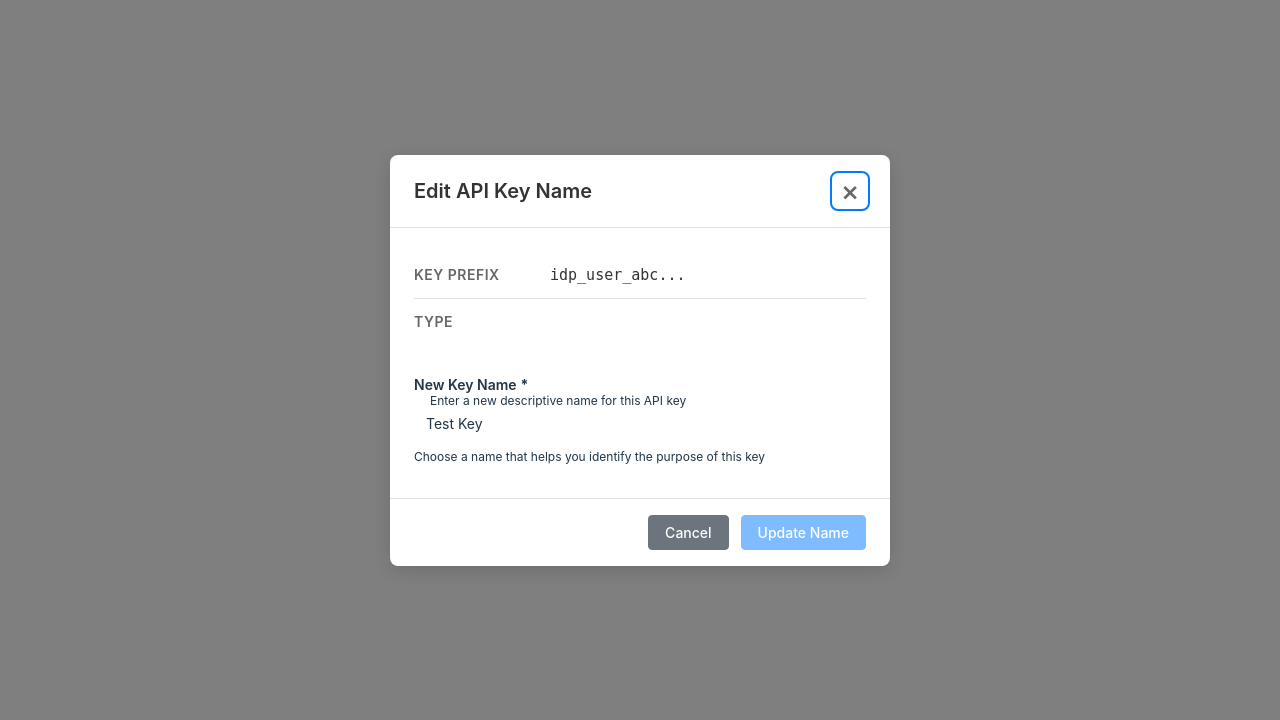
Test: ApiKeyEditNameModal › disables buttons while updating
The image size is (1280, 720).
Replace the text in the field with "New Key Name": x=640, y=421 [414, 400, 866, 442]
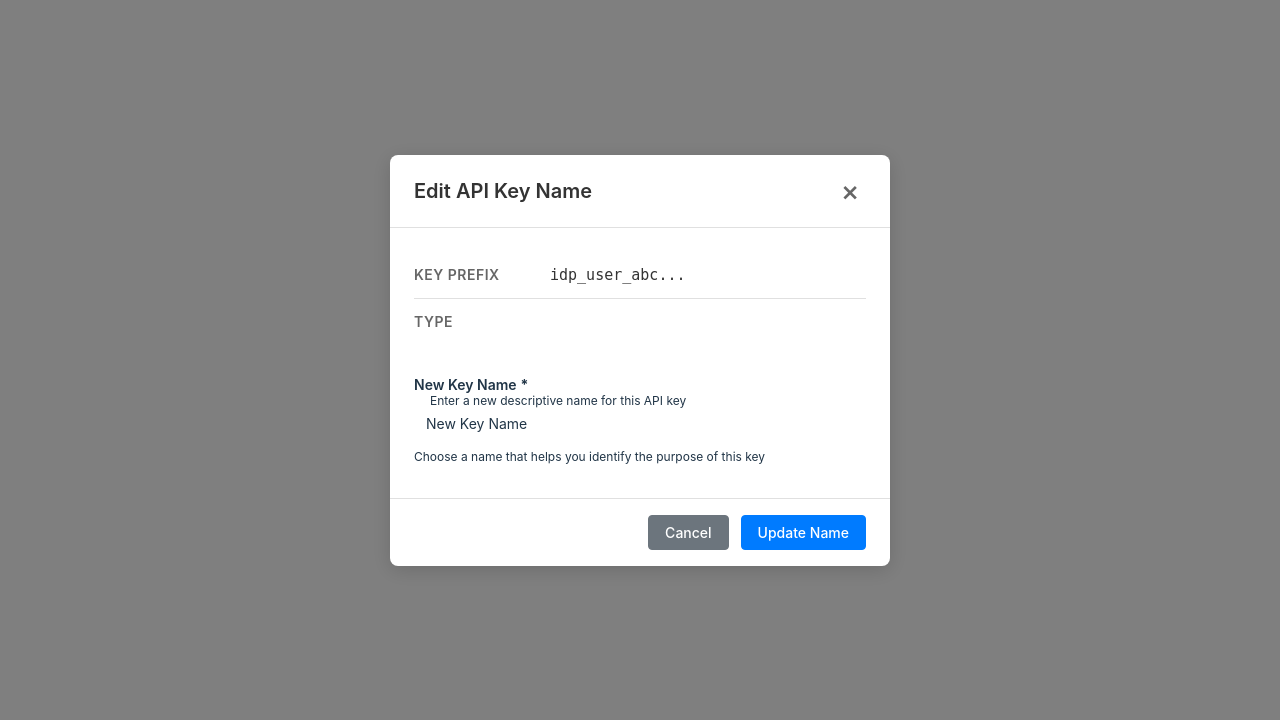
Click the button "Update Name": x=803, y=532 [741, 514, 866, 550]
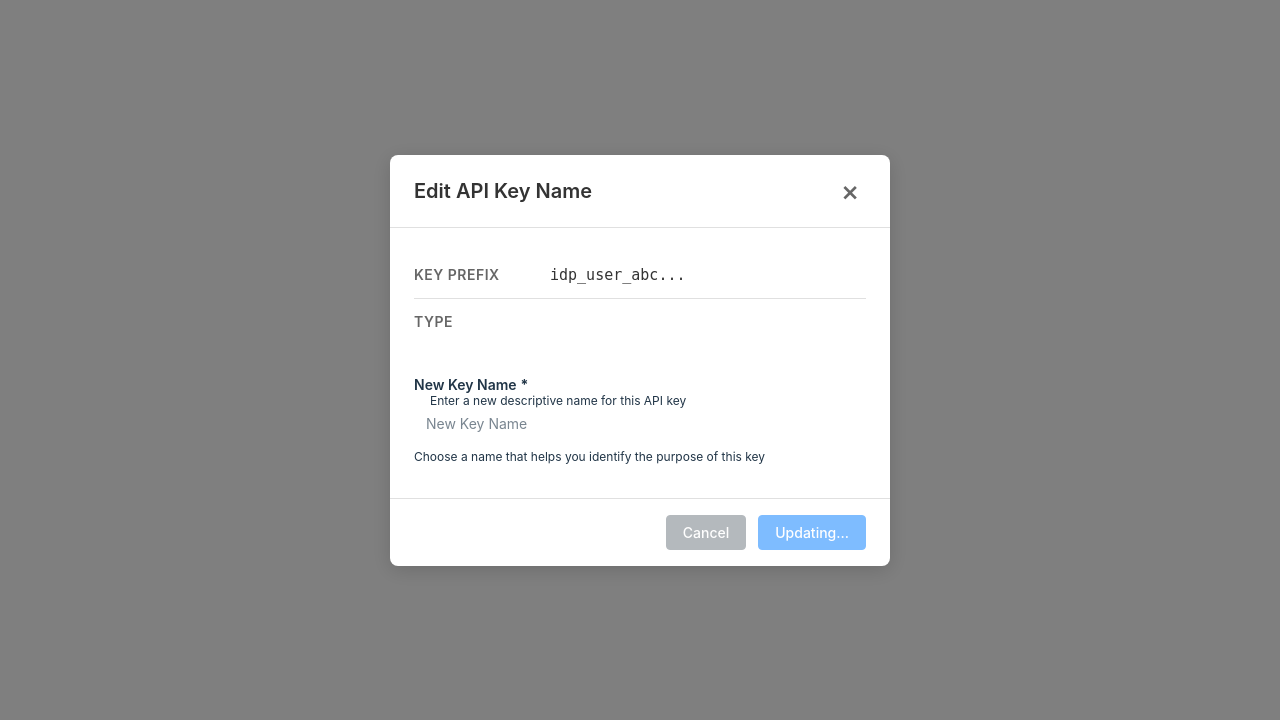
Expected: the button "Updating..." is disabled, [758, 514, 866, 550]
Expected: the button "Cancel" is disabled, [666, 514, 746, 550]
